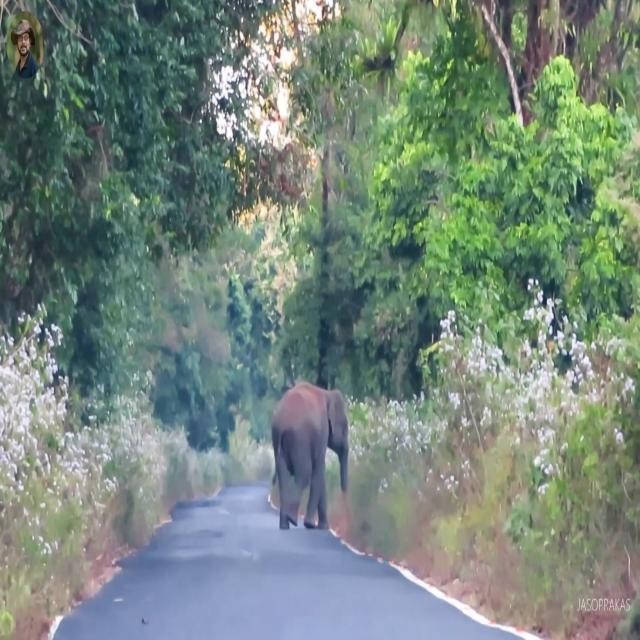Elephant: (269, 380, 349, 530)
